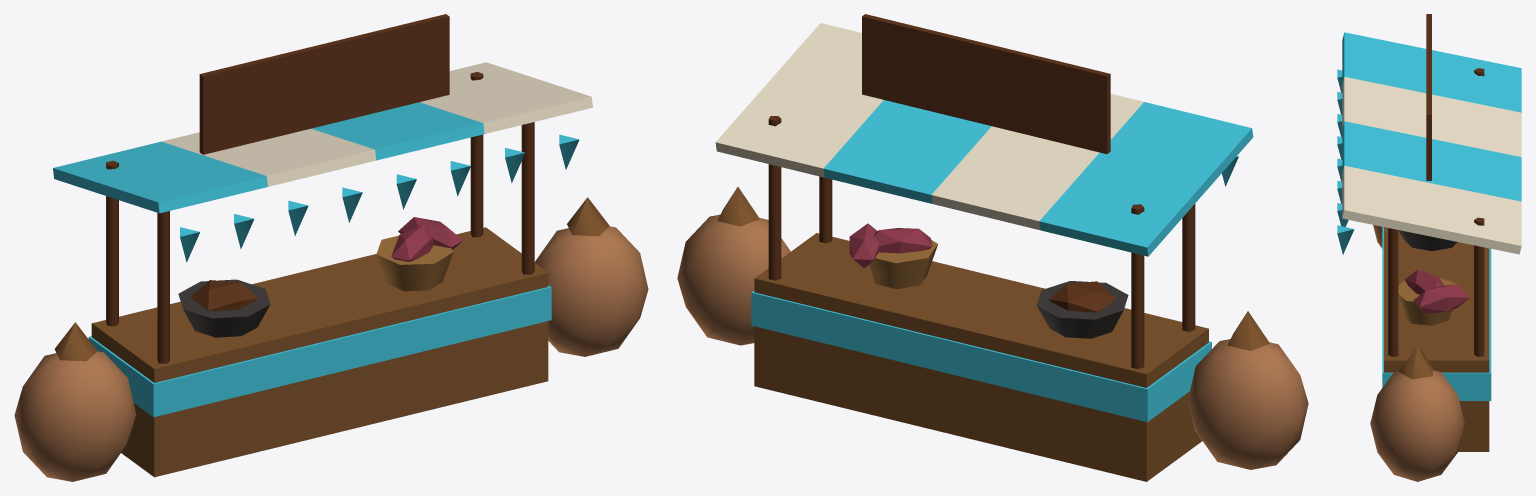
Rendered from paradeta.glb.
3 views of the same model, side by side, from view 1: azimuth 30°, elevation 25°; view 2: azimuth 150°, elevation 25°; view 3: azimuth 270°, elevation 25° (orthographic). The views are drawn at different scales.
Parts seen in each view (by area): view 1: paradeta; view 2: paradeta; view 3: paradeta.
Part boxes in pixels (left/top/right/bottom): paradeta: left=14, top=14, right=648, bottom=481; paradeta: left=677, top=14, right=1308, bottom=481; paradeta: left=1337, top=14, right=1521, bottom=481.
Bounding box in the file's own units: 6.37 × 3.6 × 1.95.
Materials: 1 (1 with a texture image).
